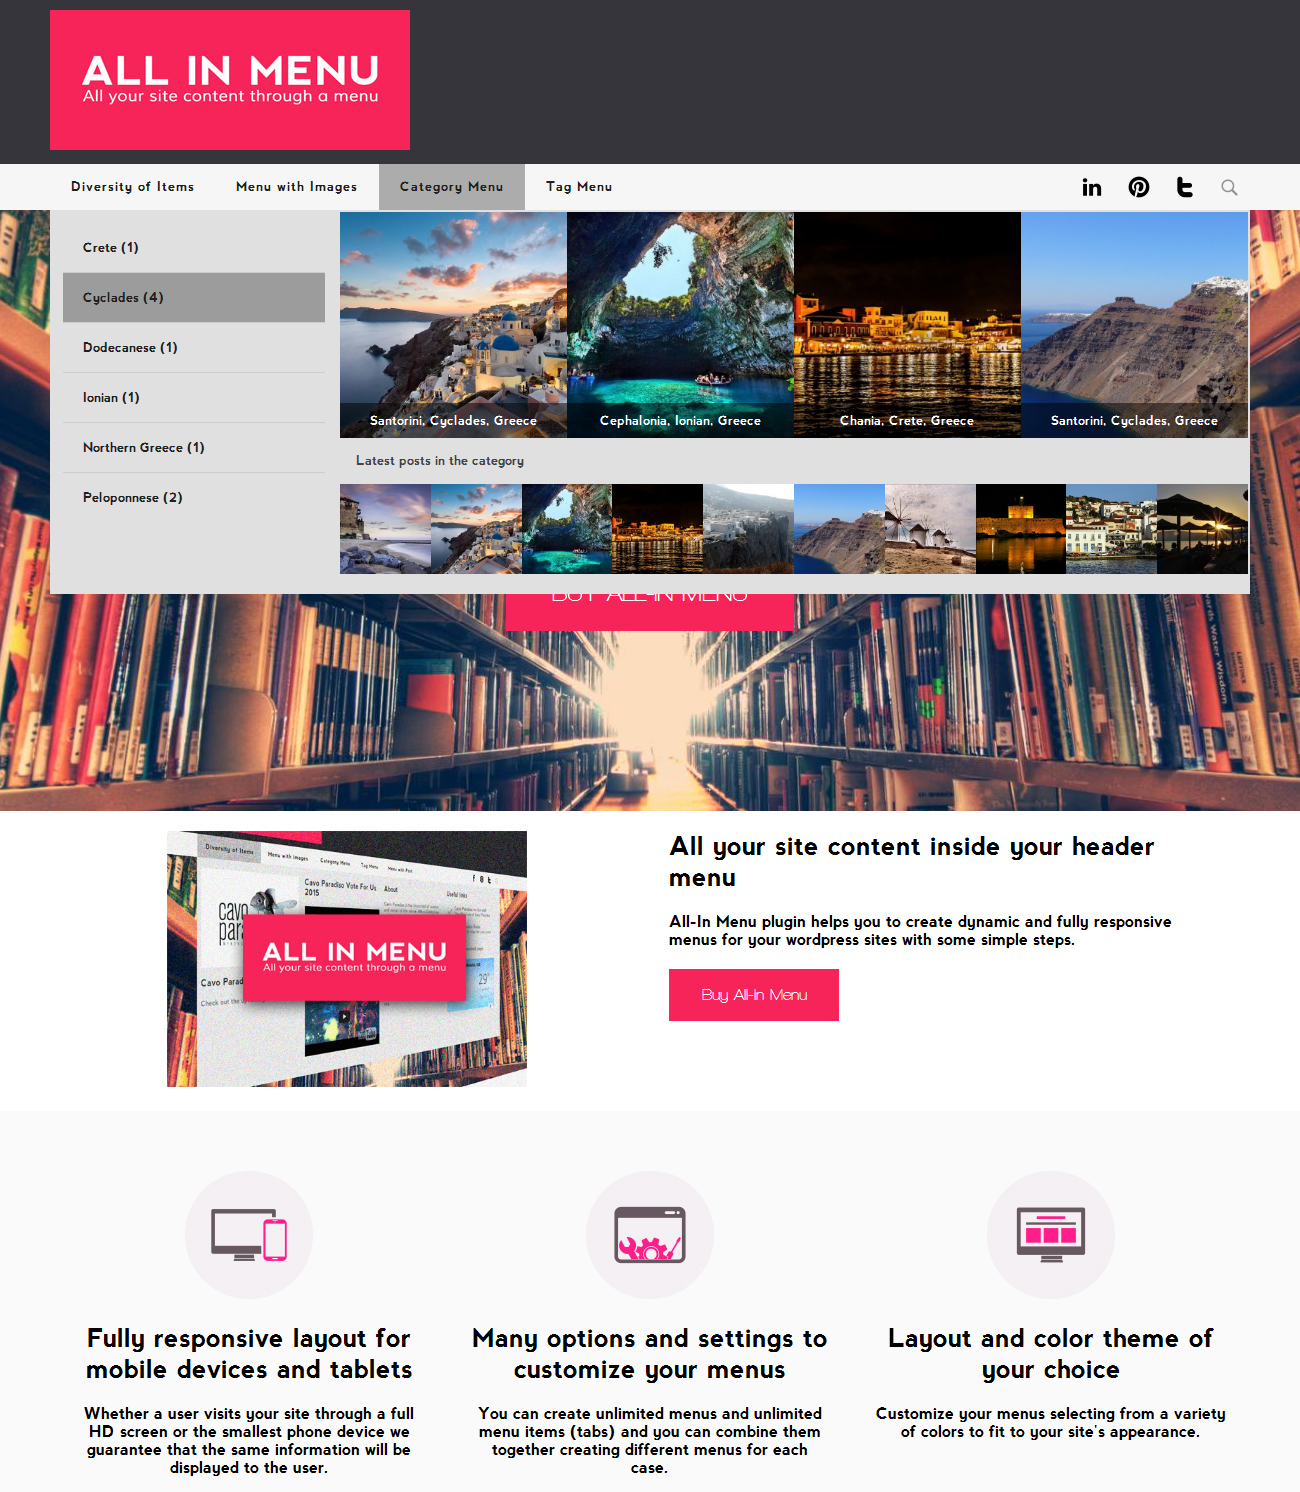menu-bar: (8, 5, 1296, 580)
